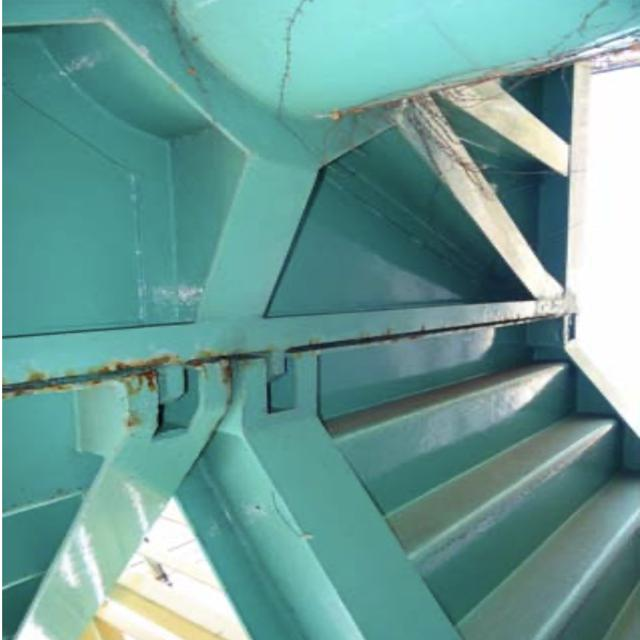corrosion: (9, 347, 254, 426)
